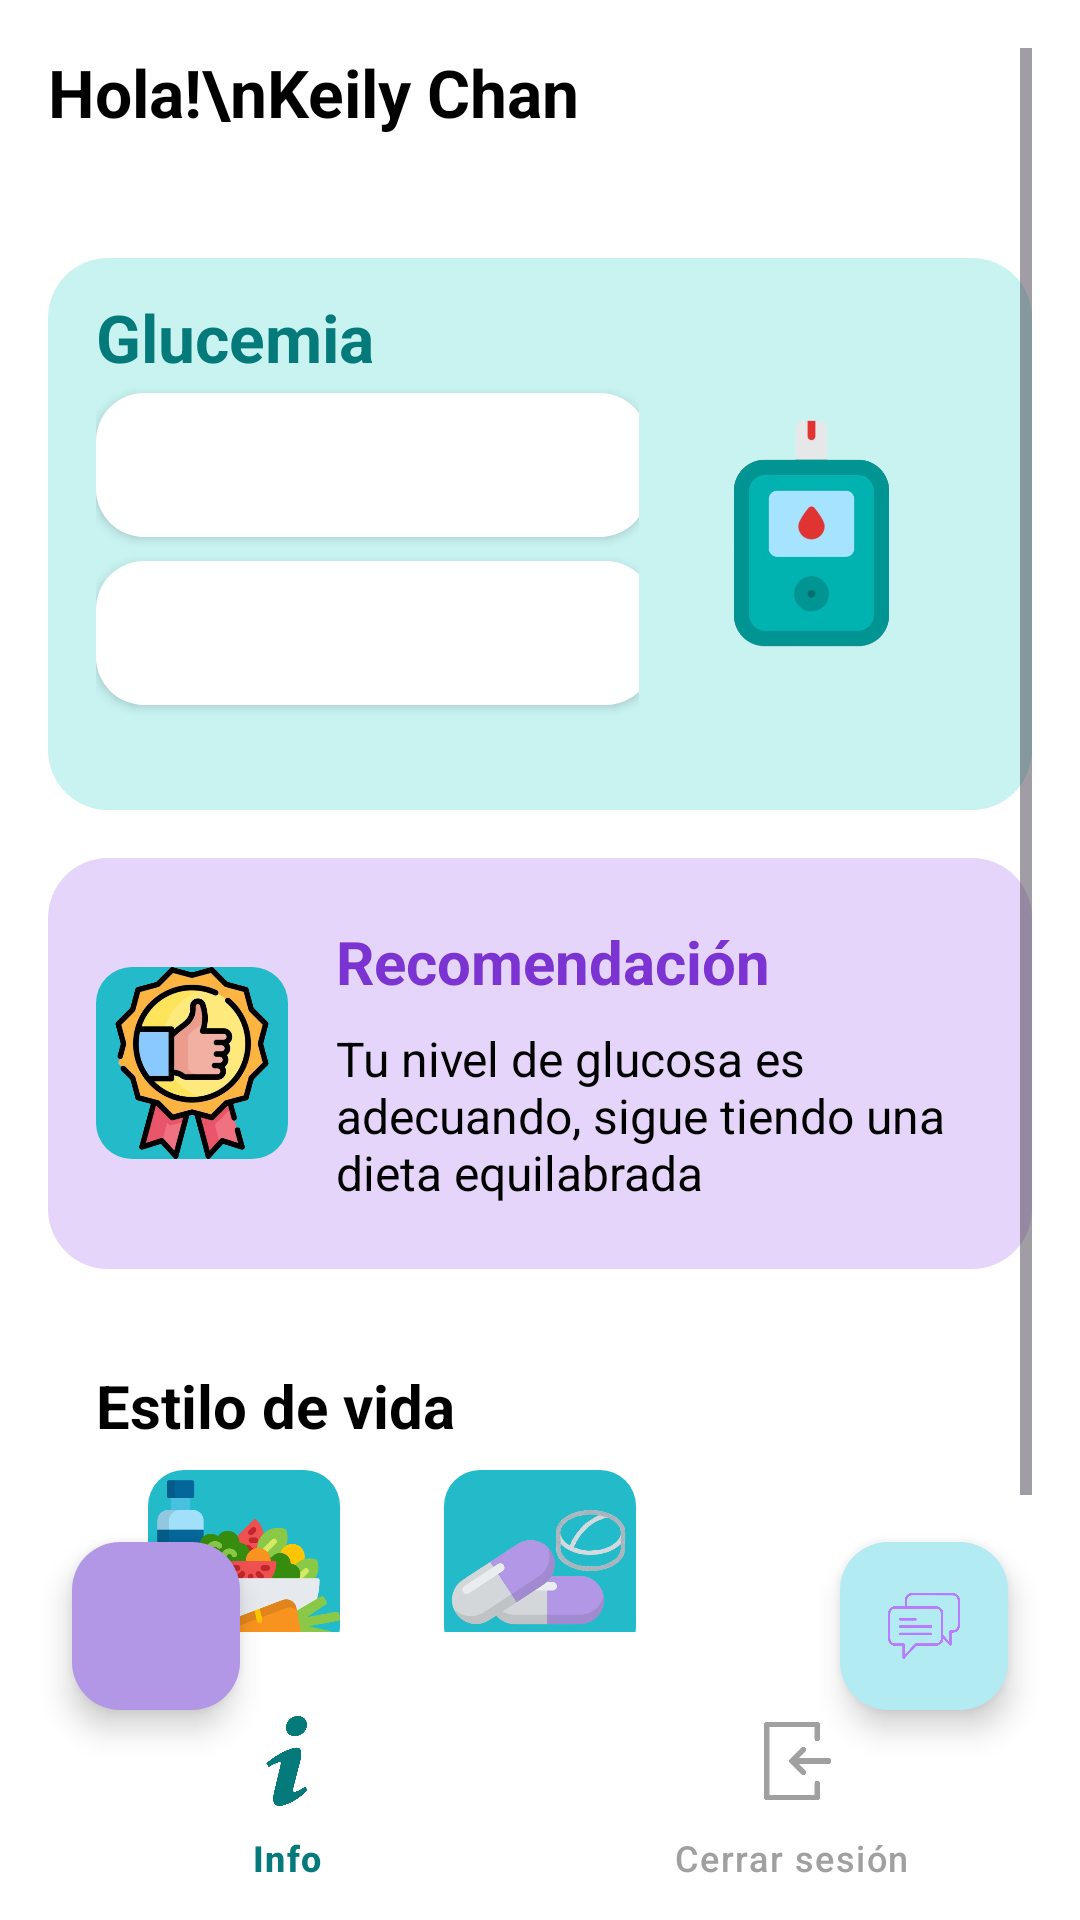

Screen size 1080x1920. Icon name, then its center in pixels as (x,y):
chatboot: (924,1626)
Medicamentos: (540,1551)
Ícono glucemia: (811,533)
